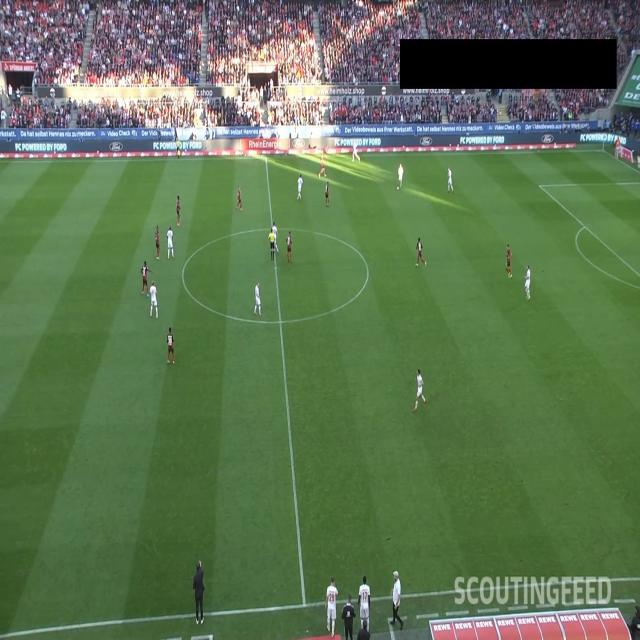ball: (396, 186, 399, 191)
